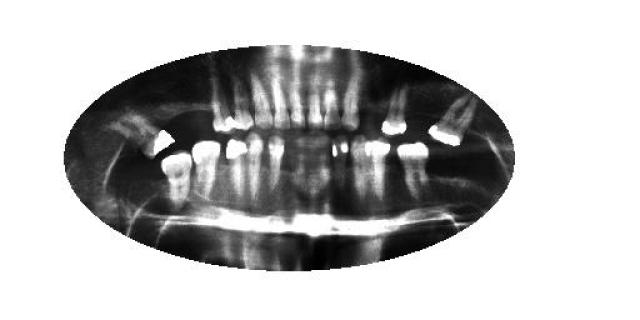Fillings: (112, 110, 176, 159), (429, 95, 479, 149), (224, 135, 248, 211), (205, 70, 234, 132), (381, 79, 409, 136)
